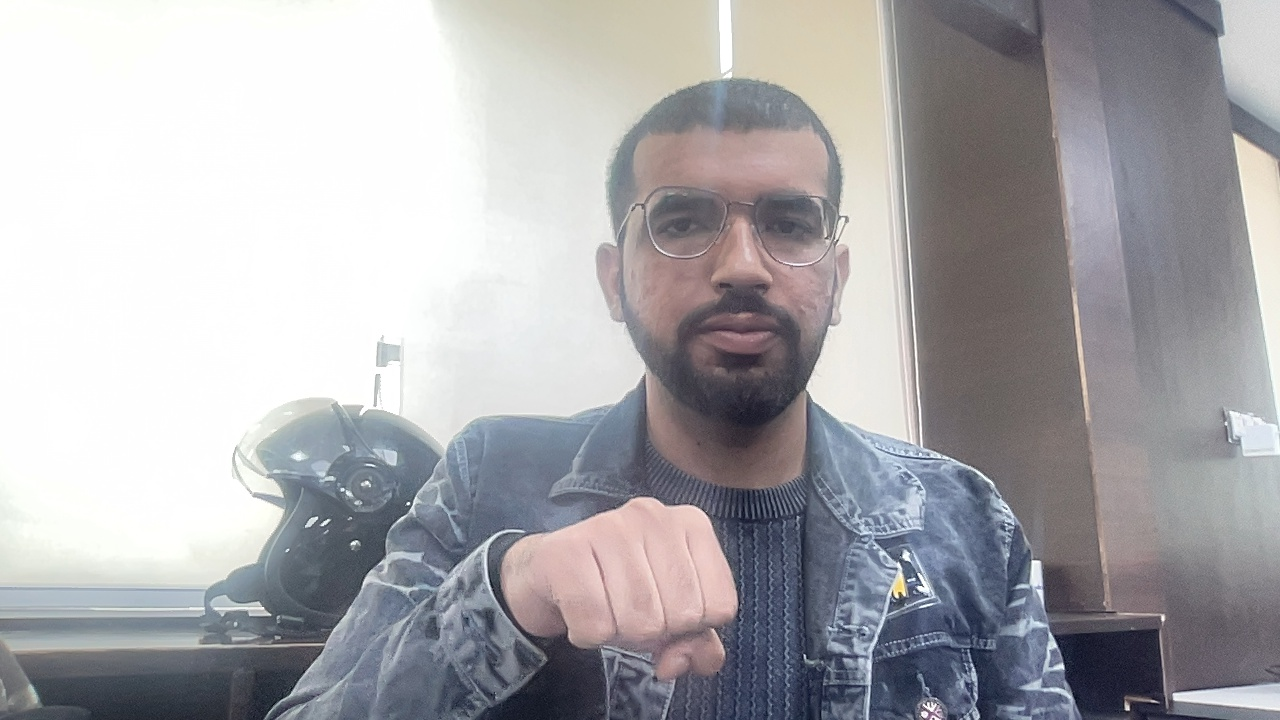Yes: (393, 493, 787, 700)
